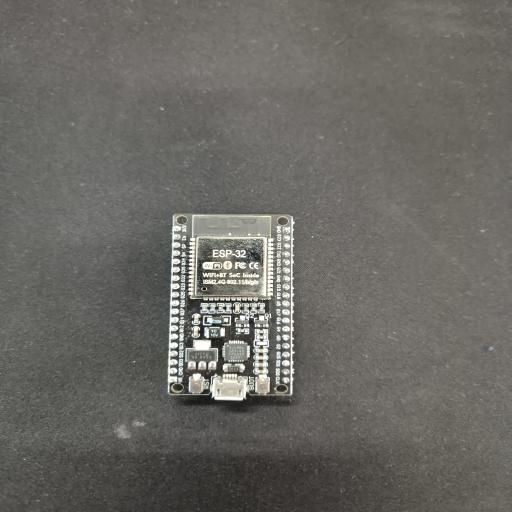esp32-dev: (168, 214, 294, 402)
